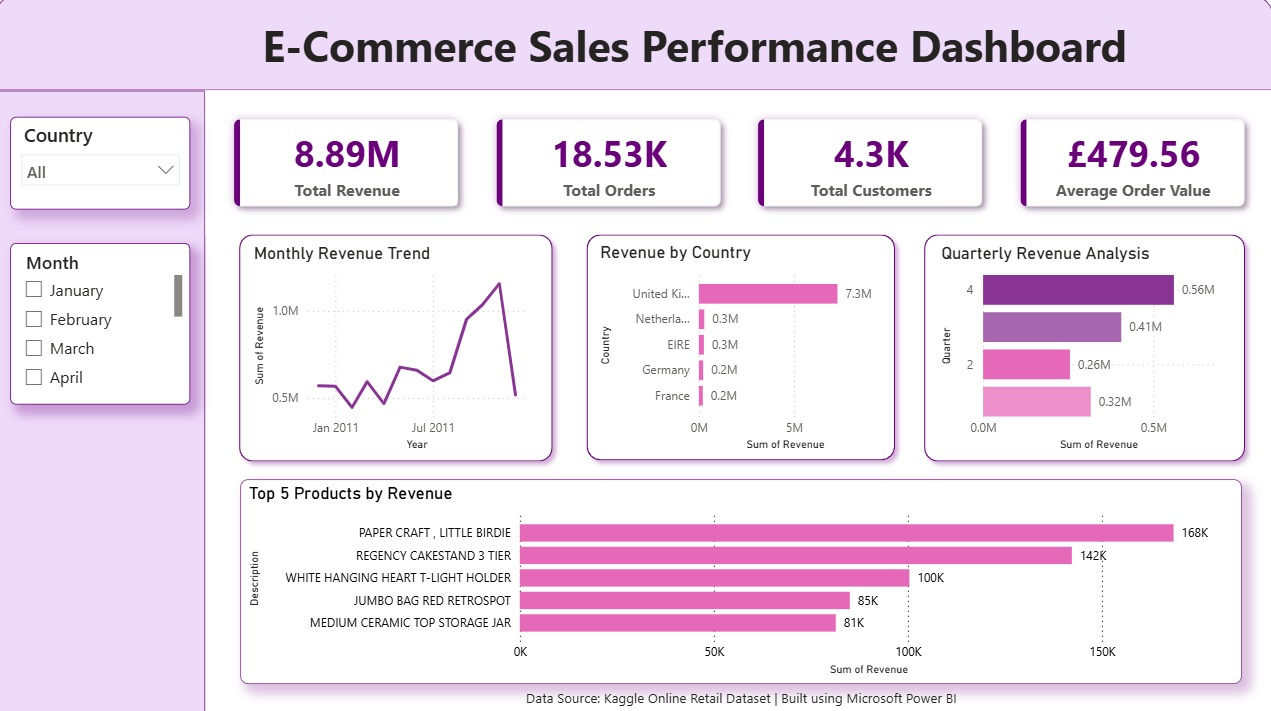

The page's visual inventory and layout, read from the dashboard file:
{"tool":"powerbi","page":{"name":"Page 1","canvas":[1280,720],"ordinal":0},"visuals":[{"type":"shape","box":[0,97.5,211.2,622.5],"z":0},{"type":"shape","box":[0,1.2,1280,96.2],"z":1000},{"type":"cardVisual","fields":{"Data":["Sum(cleaned_ecommerce_data.Revenue)","cleaned_ecommerce_data.Total Orders","cleaned_ecommerce_data.Total Customers","cleaned_ecommerce_data.Average Order Value"]},"box":[211.2,97.5,1068.8,145],"z":2000},{"type":"textbox","box":[138.1,18,1126.3,80.5],"z":3000},{"type":"shape","box":[236.2,232.5,331.2,245],"z":4000},{"type":"shape","box":[583.8,232.5,326.2,243.8],"z":5000},{"type":"barChart","title":"Revenue by Country","fields":{"Category":["cleaned_ecommerce_data.Country"],"Y":["Sum(cleaned_ecommerce_data.Revenue)"]},"box":[601.2,248.8,291.2,213.8],"z":6000},{"type":"shape","box":[921.2,232.5,338.8,245],"z":7000},{"type":"barChart","title":"Top 5 Products by Revenue","fields":{"Category":["cleaned_ecommerce_data.Description"],"Y":["Sum(cleaned_ecommerce_data.Revenue)"]},"box":[246.2,486.2,1001.2,205],"z":8000},{"type":"lineChart","title":"Monthly Revenue Trend","fields":{"Y":["Sum(cleaned_ecommerce_data.Revenue)"],"Category":["cleaned_ecommerce_data.YearMonth.Variation.Date Hierarchy.Year","cleaned_ecommerce_data.YearMonth.Variation.Date Hierarchy.Quarter","cleaned_ecommerce_data.YearMonth.Variation.Date Hierarchy.Month","cleaned_ecommerce_data.YearMonth.Variation.Date Hierarchy.Day"]},"box":[255,250,293.8,212.5],"z":9000},{"type":"clusteredBarChart","title":"Quarterly Revenue Analysis","fields":{"Category":["cleaned_ecommerce_data.Quarter"],"Y":["Sum(cleaned_ecommerce_data.Revenue)"]},"box":[942.5,250,297.5,212.5],"z":10000},{"type":"slicer","fields":{"Values":["cleaned_ecommerce_data.Month"]},"box":[16.2,250,180,161.2],"z":11000},{"type":"slicer","fields":{"Values":["cleaned_ecommerce_data.Country"]},"box":[16.2,123.8,180,92.5],"z":12000},{"type":"textbox","box":[255,691.2,985,28.8],"z":13000}]}

Visuals, with their boxes in screenshot pixels (x1, y1, x2, y2), scaled from the page's 1280x720 canvas onto the 1271x711 screenshot:
shape: box(0, 96, 210, 710)
shape: box(0, 1, 1270, 96)
cardVisual - Sum(cleaned_ecommerce_data.Revenue) x cleaned_ecommerce_data.Total Orders: box(210, 96, 1270, 239)
textbox: box(137, 18, 1256, 97)
shape: box(235, 230, 563, 472)
shape: box(580, 230, 904, 470)
"Revenue by Country" barChart: box(597, 246, 886, 457)
shape: box(915, 230, 1251, 472)
"Top 5 Products by Revenue" barChart: box(244, 480, 1239, 683)
"Monthly Revenue Trend" lineChart: box(253, 247, 545, 457)
"Quarterly Revenue Analysis" clusteredBarChart: box(936, 247, 1231, 457)
slicer - cleaned_ecommerce_data.Month: box(16, 247, 195, 406)
slicer - cleaned_ecommerce_data.Country: box(16, 122, 195, 214)
textbox: box(253, 683, 1231, 710)
